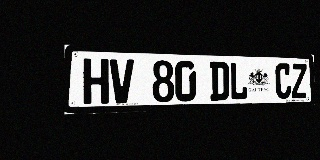0: (175, 61, 196, 102)
8: (152, 60, 174, 102)
C: (275, 63, 291, 99)
D: (210, 61, 229, 101)
H: (83, 58, 109, 104)
L: (230, 62, 248, 100)
V: (110, 59, 134, 104)
Z: (292, 64, 307, 99)
